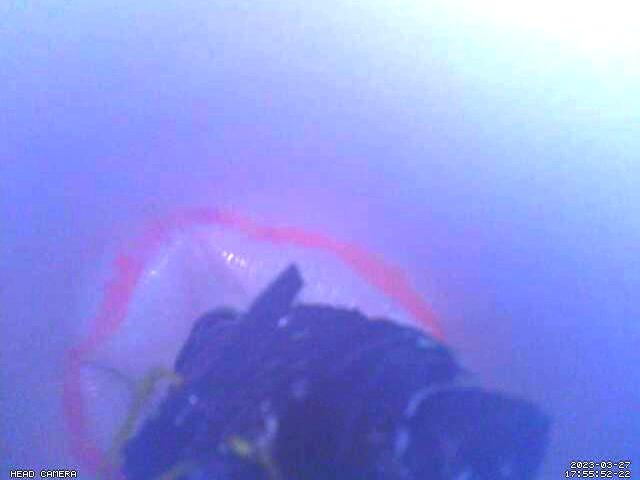head: (60, 204, 450, 480)
